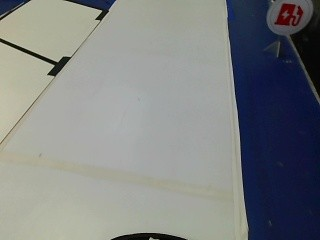battery: (266, 0, 308, 35)
